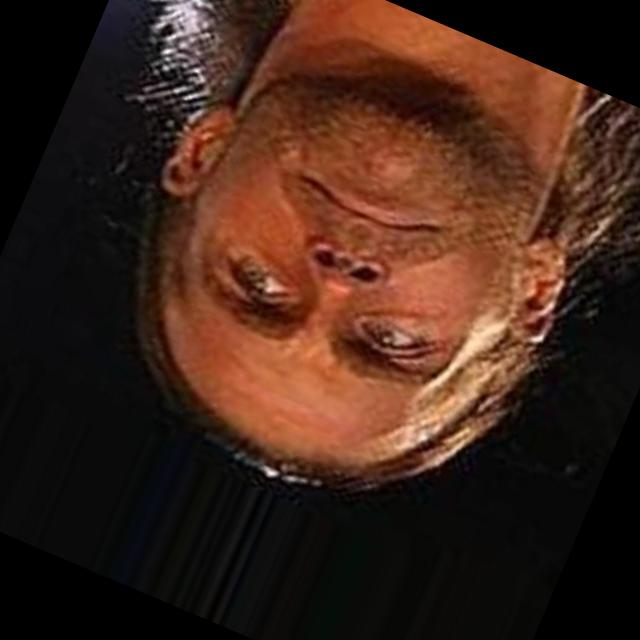bareface: (89, 34, 603, 542)
